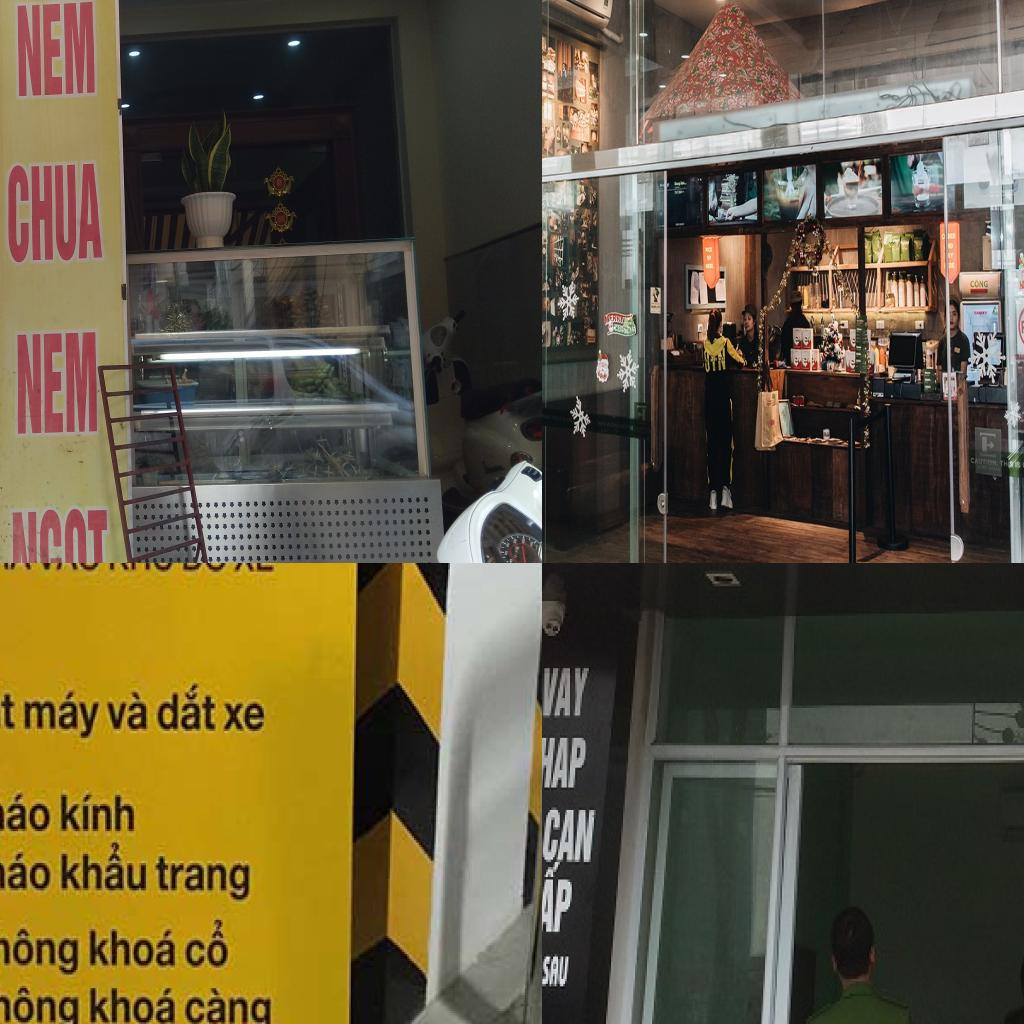text: (6, 158, 108, 264), (13, 329, 101, 438), (12, 0, 98, 98), (7, 506, 110, 563), (59, 840, 151, 895), (156, 856, 252, 906), (0, 926, 81, 979), (23, 690, 107, 740), (90, 927, 178, 972), (156, 678, 218, 736), (183, 985, 274, 1024), (59, 792, 137, 836), (542, 807, 597, 869), (89, 986, 178, 1024), (0, 985, 81, 1024), (542, 668, 594, 722), (184, 920, 233, 972), (542, 862, 575, 939), (542, 735, 588, 789), (0, 790, 53, 835), (0, 852, 54, 895), (107, 690, 151, 733), (221, 699, 269, 736), (0, 678, 18, 733), (34, 563, 103, 576), (108, 563, 174, 574), (180, 563, 229, 574), (232, 563, 277, 574), (605, 313, 626, 327), (970, 457, 997, 467), (612, 324, 637, 334), (969, 278, 989, 290), (999, 460, 1014, 468), (276, 214, 286, 224), (972, 311, 988, 317), (1014, 353, 1024, 362), (947, 232, 956, 240), (705, 246, 714, 253), (948, 261, 955, 270), (705, 263, 715, 269), (276, 178, 282, 187), (948, 251, 954, 260), (1015, 460, 1021, 469), (948, 242, 954, 250), (941, 233, 945, 241), (508, 557, 513, 563), (707, 255, 712, 261), (504, 549, 508, 556), (506, 541, 510, 548), (515, 561, 520, 563)
